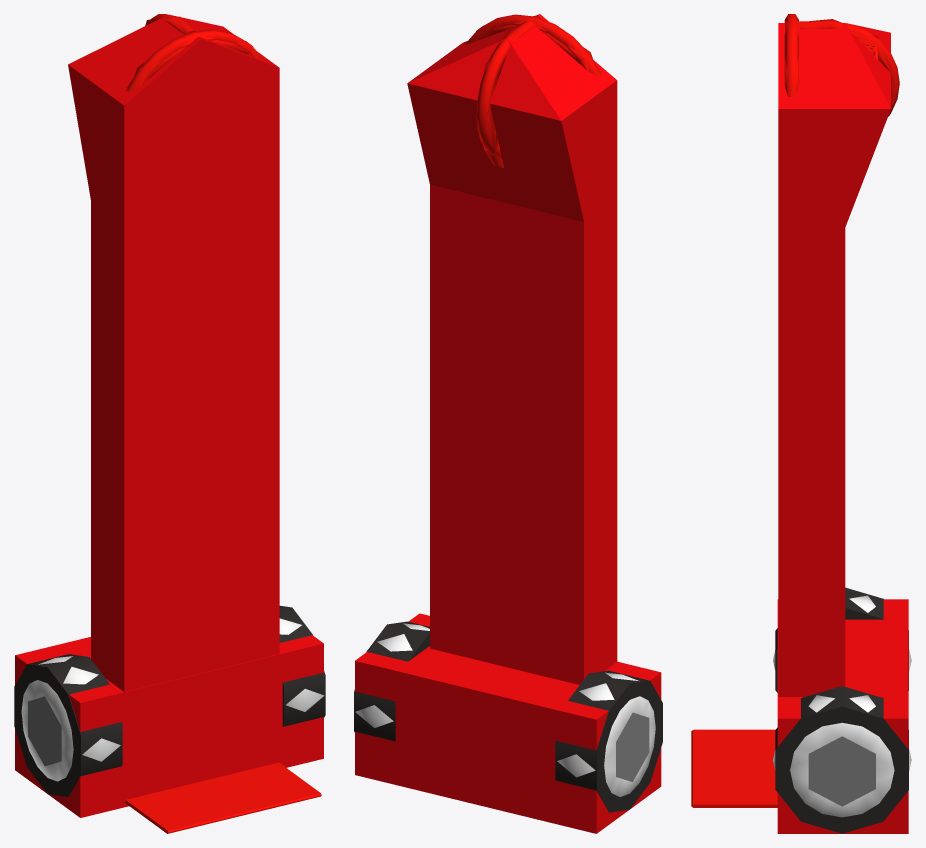
File: clutter_workshop_hand_truck.dae
The picture shows the model from 3 angles, left to right: view 1: azimuth 30°, elevation 25°; view 2: azimuth 150°, elevation 25°; view 3: azimuth 270°, elevation 25°; orthographic projection.
Parts seen in each view (by area): view 1: Colmesh_clutter_workshop_hand_truck-1, clutter_workshop_hand_truck_a200, clutter_workshop_hand_truck_a30, clutter_workshop_hand_truck_a350; view 2: Colmesh_clutter_workshop_hand_truck-1, clutter_workshop_hand_truck_a200, clutter_workshop_hand_truck_a350, clutter_workshop_hand_truck_a30; view 3: Colmesh_clutter_workshop_hand_truck-1, clutter_workshop_hand_truck_a200, clutter_workshop_hand_truck_a30, clutter_workshop_hand_truck_a350.
Part boxes in pixels (left/top/right/bottom): Colmesh_clutter_workshop_hand_truck-1: left=15, top=14, right=323, bottom=817; clutter_workshop_hand_truck_a200: left=14, top=16, right=325, bottom=796; clutter_workshop_hand_truck_a30: left=14, top=31, right=320, bottom=830; clutter_workshop_hand_truck_a350: left=21, top=14, right=324, bottom=833; Colmesh_clutter_workshop_hand_truck-1: left=355, top=14, right=661, bottom=833; clutter_workshop_hand_truck_a200: left=354, top=22, right=662, bottom=812; clutter_workshop_hand_truck_a350: left=355, top=14, right=655, bottom=796; clutter_workshop_hand_truck_a30: left=409, top=15, right=662, bottom=809; Colmesh_clutter_workshop_hand_truck-1: left=777, top=23, right=908, bottom=833; clutter_workshop_hand_truck_a200: left=775, top=19, right=908, bottom=833; clutter_workshop_hand_truck_a30: left=693, top=21, right=908, bottom=833; clutter_workshop_hand_truck_a350: left=691, top=14, right=911, bottom=817.
Bounding box in the file's own units: 0.5659 × 0.4302 × 1.62.
